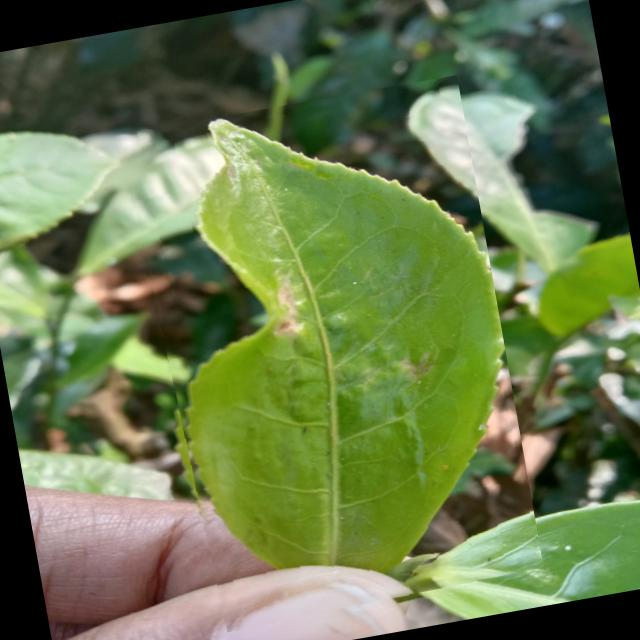Category B(2-4 days): (120, 74, 544, 636)
